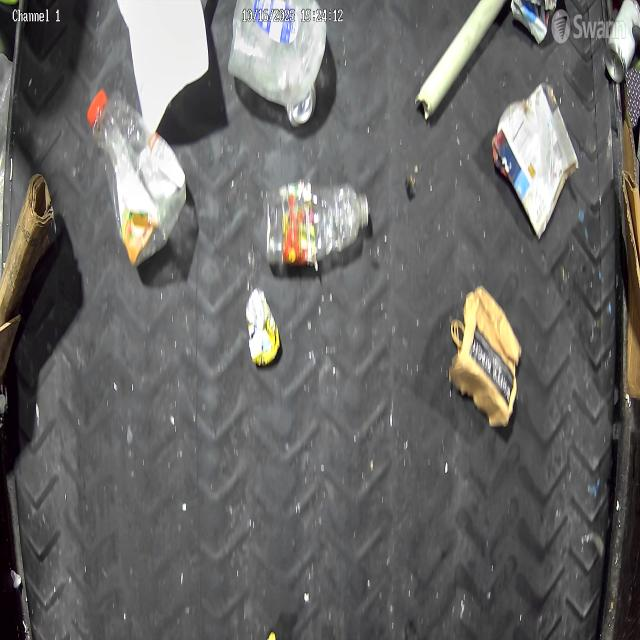can: (603, 0, 640, 86), (245, 285, 280, 367), (286, 84, 318, 128)
plastic_bottle: (86, 87, 188, 270), (262, 174, 370, 269)
